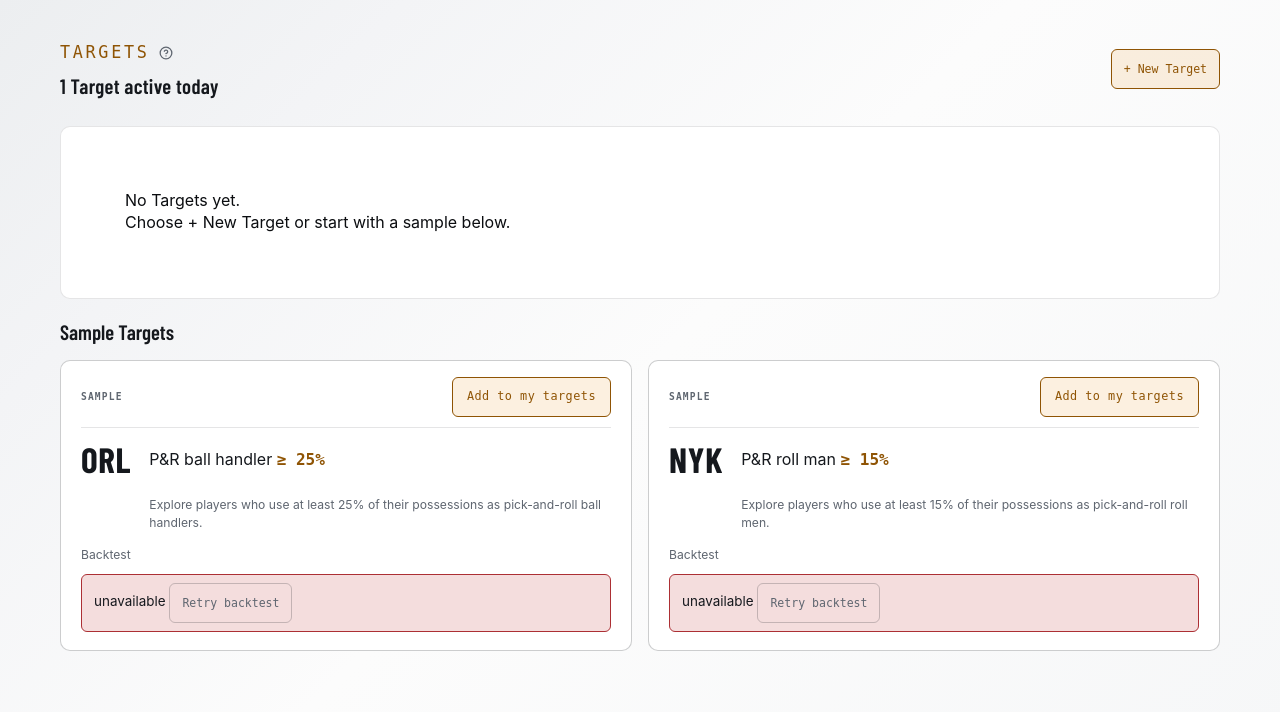
Test: a failed sample backtest can retry without creating a target
This screenshot has width=1280, height=712.
Expected: the 1st button "Add to my targets" is enabled, [452,377,611,417]
Click the button "Retry backtest" below "ORL".
click(231, 603)  # box [169,583,292,623]
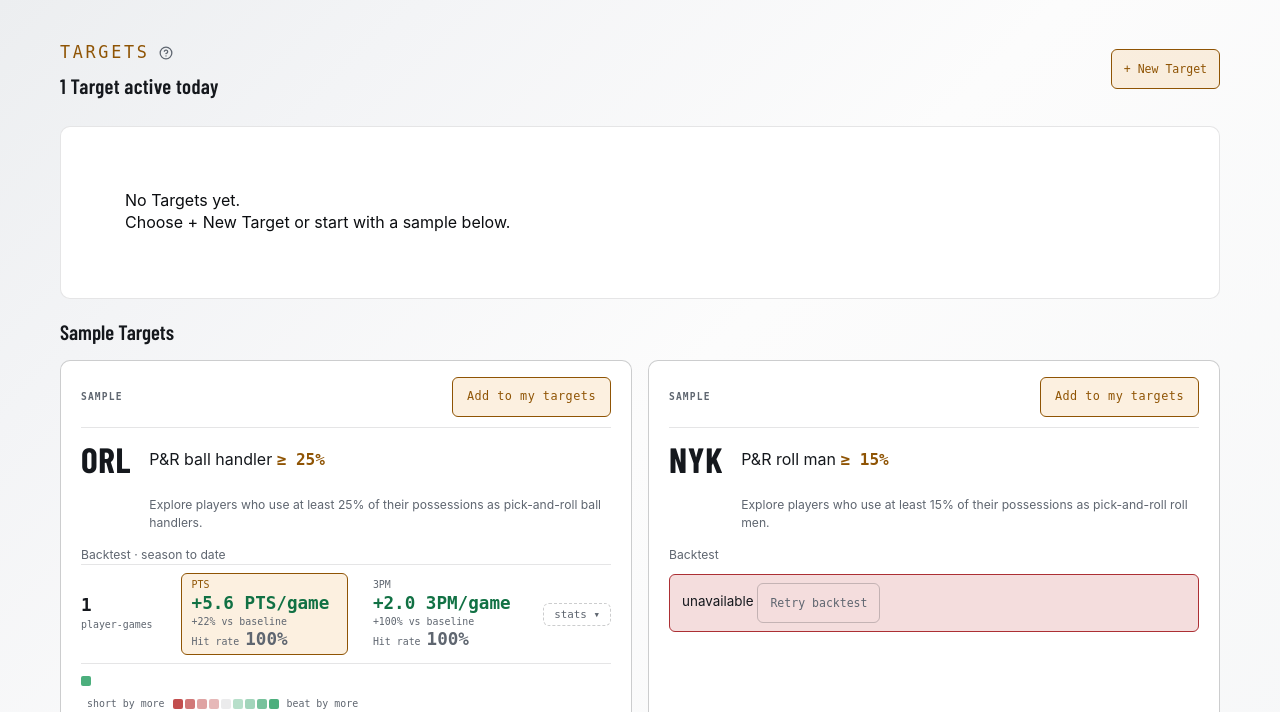
Now the list named "Backtest summary" is shown, box [81,564,611,664]
